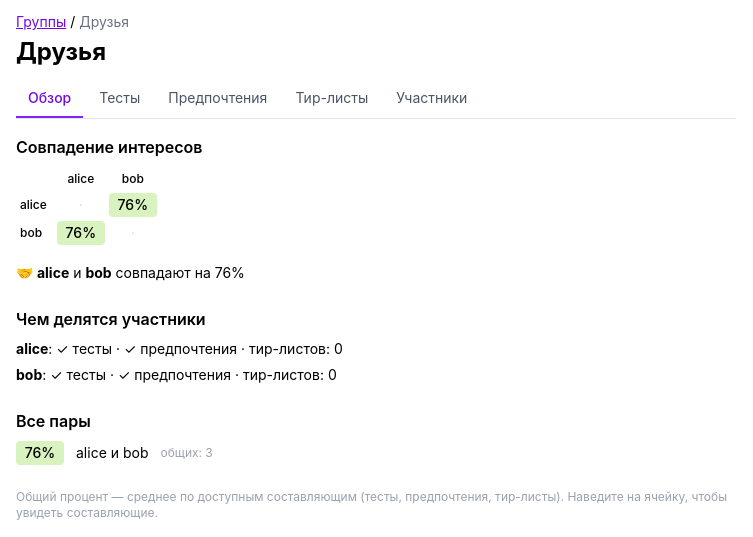
Scenario: GroupPage (дымовая проверка) › вкладка «Тесты»: результаты и пары
Step 1. Click the button "Тесты" → x=120, y=99, box [87,80,152,118]
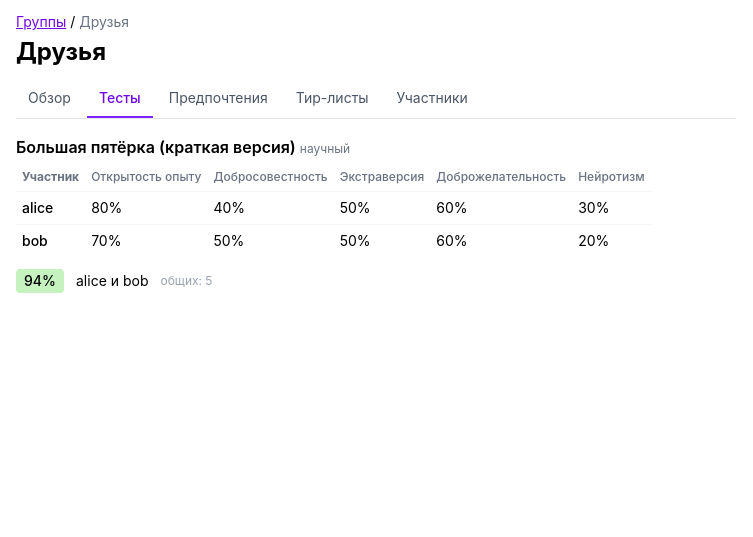
Expected: the heading "Большая пятёрка (краткая версия) научный" is shown, [16,137,350,157]
Expected: the text "80%" is shown, [85,192,208,224]
Expected: the text "70%" is shown, [85,224,208,257]
